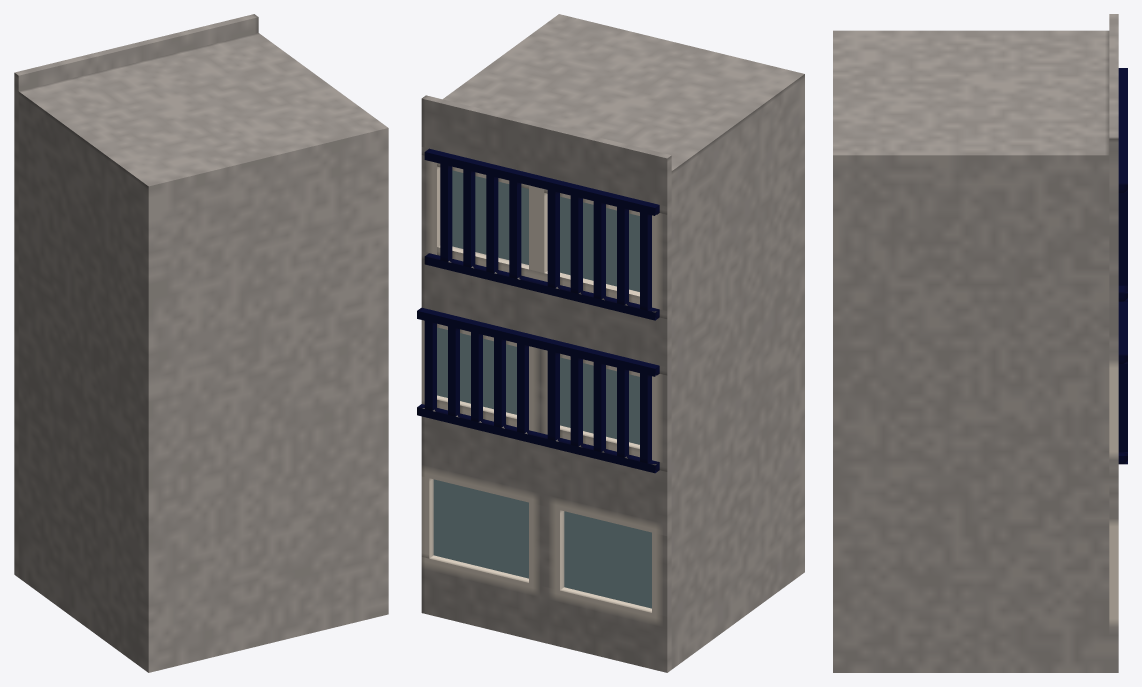
Rendered from SIEROCINEC_FRONT_OKNA_12.dae.
3 renders of one model, left to right at view 1: azimuth 30°, elevation 25°; view 2: azimuth 150°, elevation 25°; view 3: azimuth 270°, elevation 25°, orthographic. The views are drawn at different scales.
Visible parts, largest first — view 1: Content; view 2: Content; view 3: Content.
Part boxes in pixels (bbox=[...]): Content: bbox=[14, 14, 388, 672]; Content: bbox=[417, 14, 804, 672]; Content: bbox=[833, 14, 1127, 672].
Size of the model in its own units: 32 by 64 by 32.
Materials: 1 (1 with a texture image).
